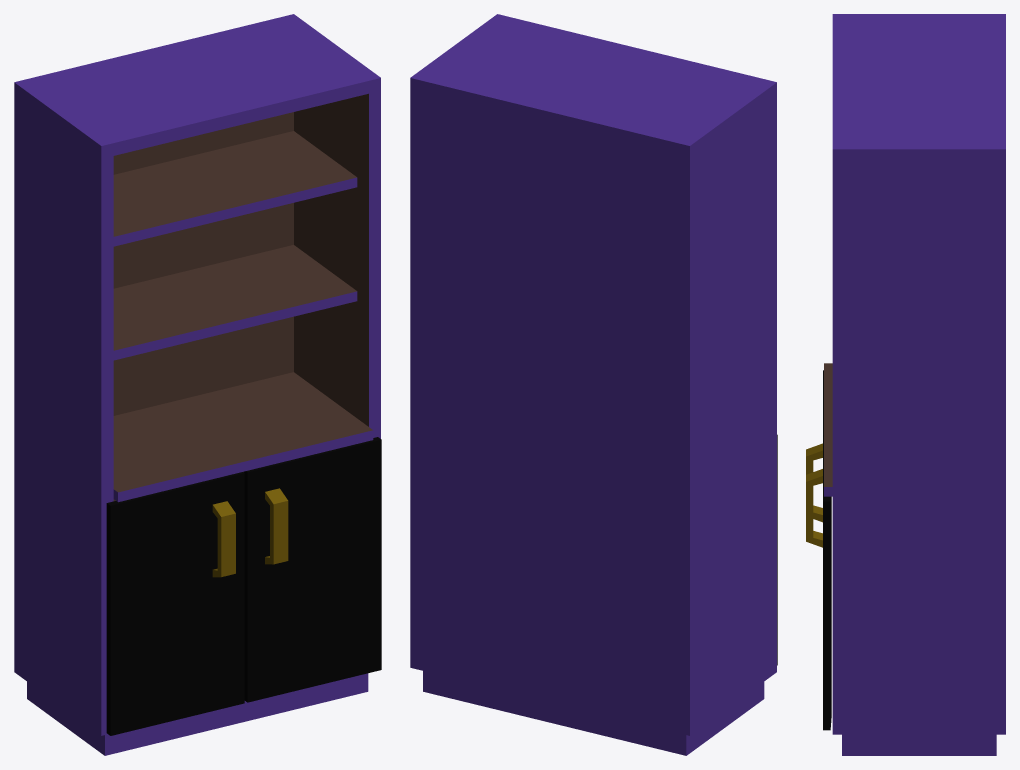
File: cabinet6.fbx
3 views of the same model, side by side, from view 1: azimuth 30°, elevation 25°; view 2: azimuth 150°, elevation 25°; view 3: azimuth 270°, elevation 25° (orthographic).
Parts seen in each view (by area): view 1: cabinet6; view 2: cabinet6; view 3: cabinet6.
Part boxes in pixels (left/top/right/bottom): cabinet6: left=14, top=14, right=381, bottom=755; cabinet6: left=410, top=14, right=777, bottom=755; cabinet6: left=806, top=14, right=1005, bottom=755.
Size of the model in its own units: 79.01 by 166 by 49.3.
